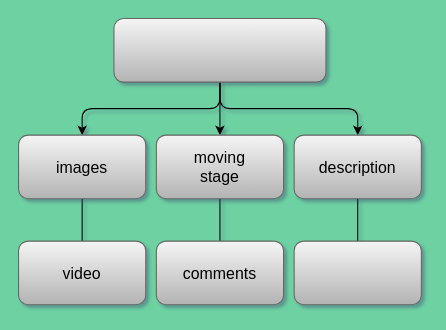
The diagram is 446 pixels wide and 330 high, and some of its shapes have lost their labels. Each missing label, with the centre of its shape:
"created at" belongs at point (357, 272).
"Expert Tips" belongs at point (219, 49).
